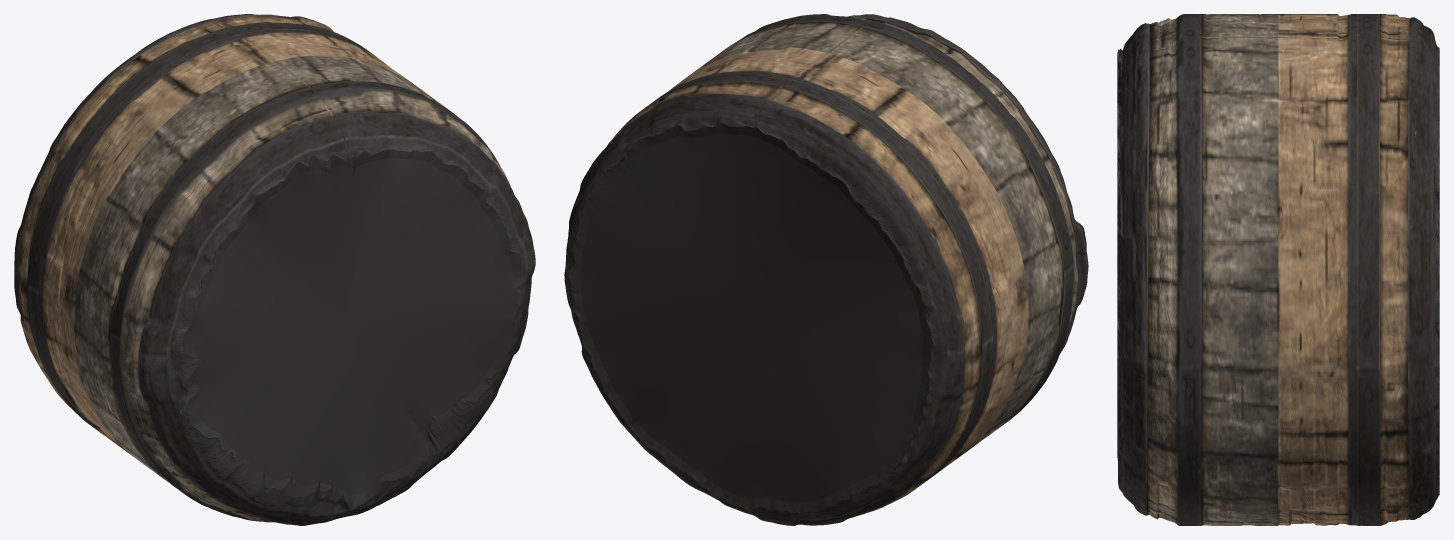
The model's file is mesh_inpaint.glb.
The picture shows the model from 3 angles, left to right: view 1: azimuth 30°, elevation 25°; view 2: azimuth 150°, elevation 25°; view 3: azimuth 270°, elevation 25°; orthographic projection. The views are drawn at different scales.
Visible parts, largest first — view 1: ipn, fill; view 2: fill, ipn; view 3: ipn.
Boxes of the visible parts, left/top/right/bottom form: ipn: left=14, top=14, right=535, bottom=525; fill: left=182, top=149, right=525, bottom=509; fill: left=568, top=122, right=932, bottom=513; ipn: left=564, top=14, right=1088, bottom=525; ipn: left=1117, top=14, right=1439, bottom=525.
Bounding box in the file's own units: 2 × 2 × 1.26.
Materials: 2 (1 with a texture image).
